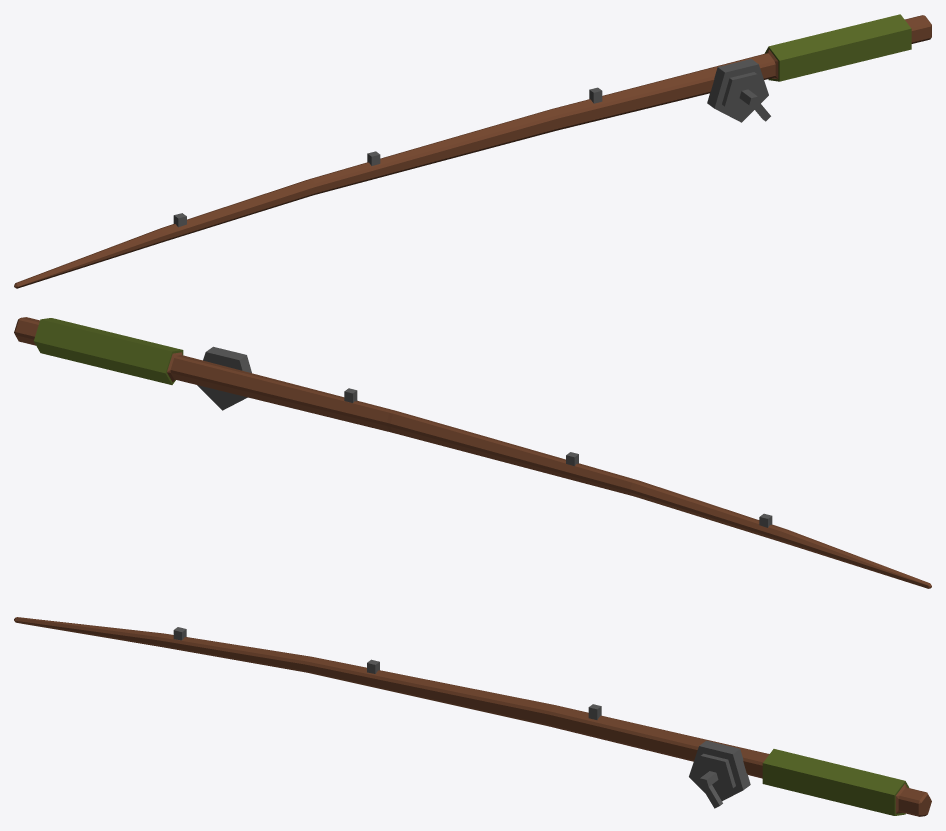
Rendered from fishingrod.fbx.
3 renders of one model, top to bottom at view 1: azimuth 30°, elevation 25°; view 2: azimuth 150°, elevation 25°; view 3: azimuth 330°, elevation 25°, orthographic.
Visible parts, largest first — view 1: rod, spinthing; view 2: rod, spinthing; view 3: rod, spinthing.
Boxes of the visible parts, x1=… form: rod: x1=14, y1=14, x2=931, y2=288; spinthing: x1=707, y1=59, x2=770, y2=122; rod: x1=14, y1=317, x2=931, y2=588; spinthing: x1=197, y1=346, x2=251, y2=410; rod: x1=14, y1=617, x2=931, y2=816; spinthing: x1=689, y1=740, x2=750, y2=808.
Size of the model in its own units: 222 by 13.23 by 14.77.
